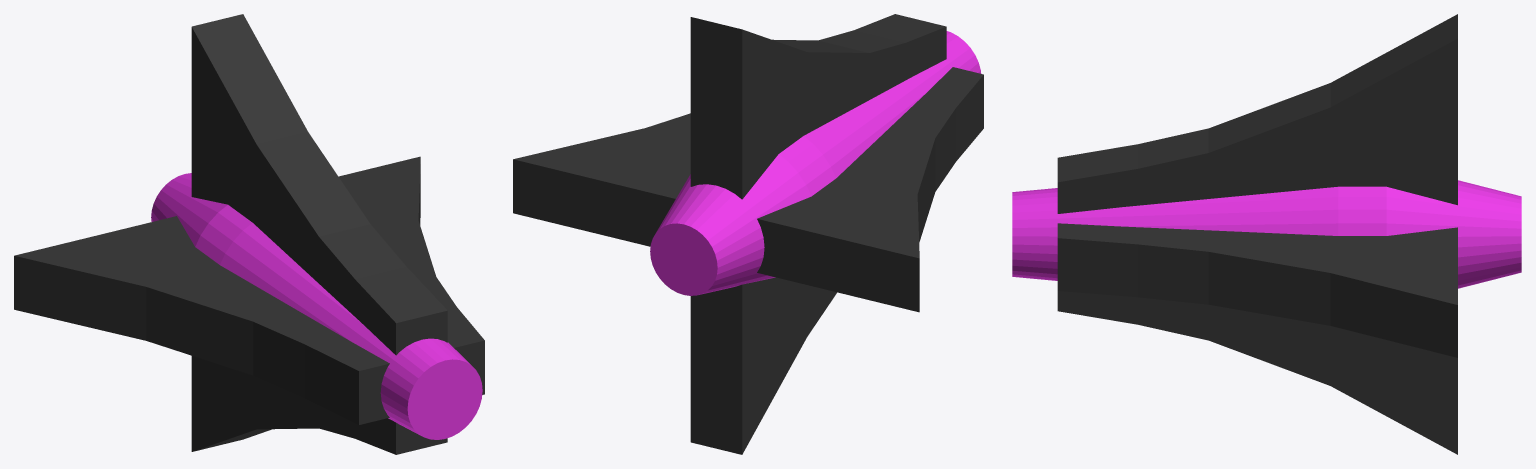
Rendered from rammert.fbx.
3 views of the same model, side by side, from view 1: azimuth 30°, elevation 25°; view 2: azimuth 150°, elevation 25°; view 3: azimuth 270°, elevation 25° (orthographic). The views are drawn at different scales.
Visible parts, largest first — view 1: Cube.001, Cube.002, Cylinder, Cube.003, Cube.004; view 2: Cube.001, Cube.002, Cylinder, Cube.003, Cube.004; view 3: Cube.001, Cube.004, Cylinder, Cube.003.
Part boxes in pixels (<box>): Cube.001: <box>191,14,447,355</box>; Cube.002: <box>14,216,389,424</box>; Cylinder: <box>151,173,482,439</box>; Cube.003: <box>191,356,447,454</box>; Cube.004: <box>338,156,484,394</box>; Cube.001: <box>690,14,946,199</box>; Cube.002: <box>757,67,983,312</box>; Cylinder: <box>650,31,981,295</box>; Cube.003: <box>690,277,836,454</box>; Cube.004: <box>513,113,690,246</box>; Cube.001: <box>1057,14,1457,213</box>; Cube.004: <box>1057,223,1457,357</box>; Cylinder: <box>1012,180,1521,288</box>; Cube.003: <box>1057,291,1457,454</box>.
Bounding box in the file's own units: 722 × 722 × 800.
